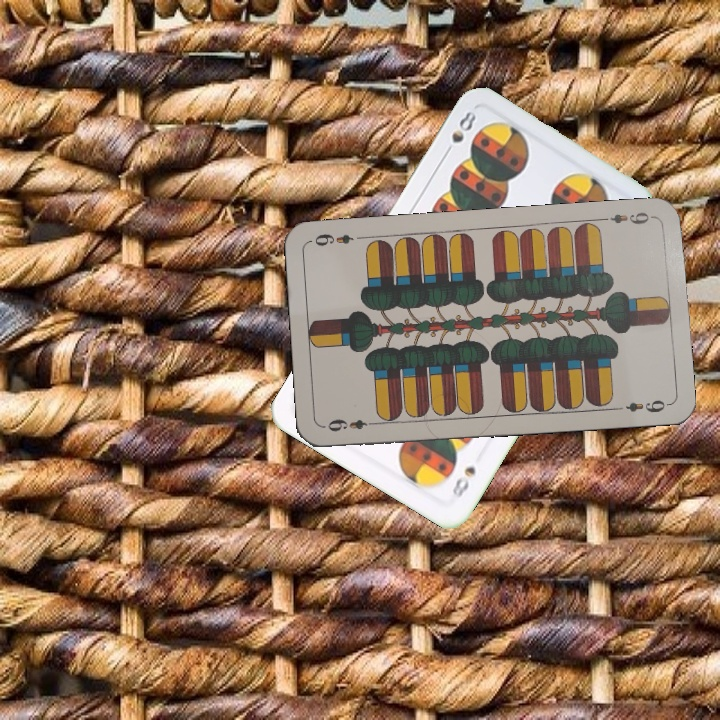E9: (321, 415, 380, 434), (598, 208, 657, 227)
S8: (439, 107, 479, 160), (448, 462, 479, 501)
